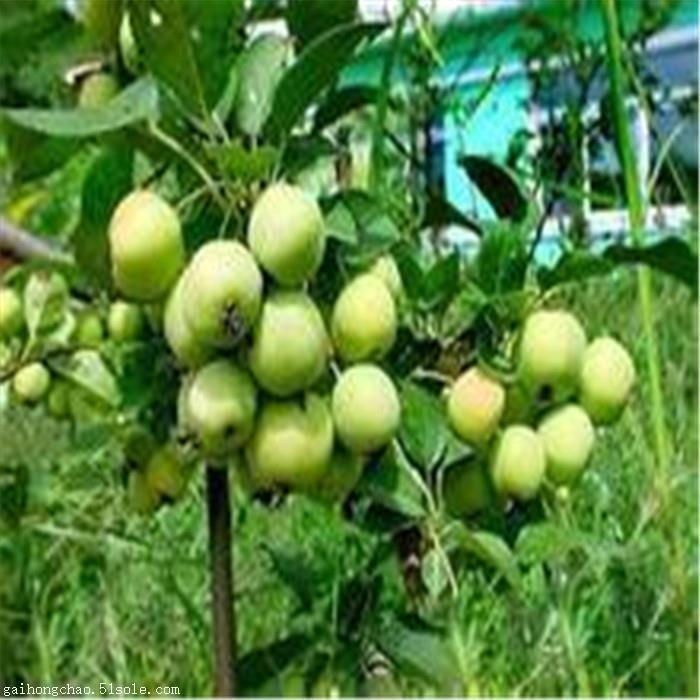apple: (248, 181, 331, 290), (182, 240, 265, 349), (244, 285, 327, 394), (105, 188, 185, 301), (245, 395, 332, 497), (180, 363, 257, 455), (328, 275, 397, 367), (517, 311, 586, 403), (333, 367, 400, 456), (579, 336, 638, 423), (539, 400, 594, 486), (447, 367, 503, 446), (491, 424, 544, 495)
